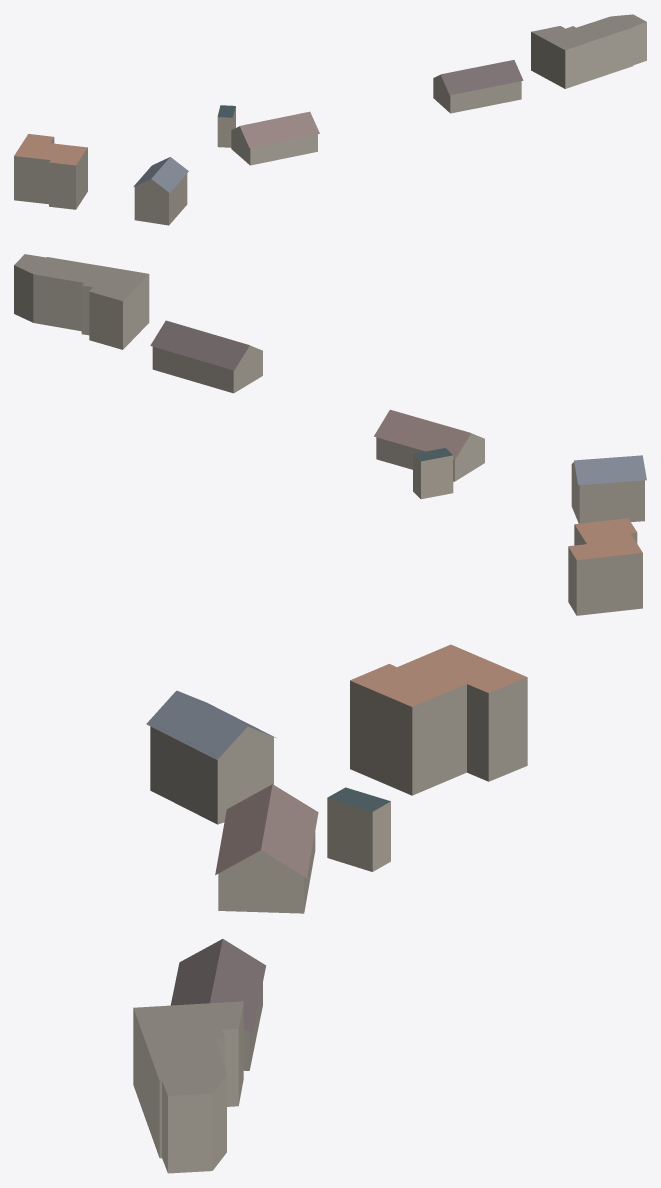
3 renders of one model, top to bottom at view 1: azimuth 30°, elevation 25°; view 2: azimuth 150°, elevation 25°; view 3: azimuth 270°, elevation 25°, orthographic. The views are drawn at different scales.
Visible parts, largest first — view 1: tuile; view 2: tuile; view 3: tuile.
Part boxes in pixels (x1,y1,x2,y2): tuile: (14, 14, 646, 225); tuile: (14, 254, 646, 615); tuile: (133, 644, 527, 1173).
Size of the model in its own units: 154 by 24.36 by 46.8.
